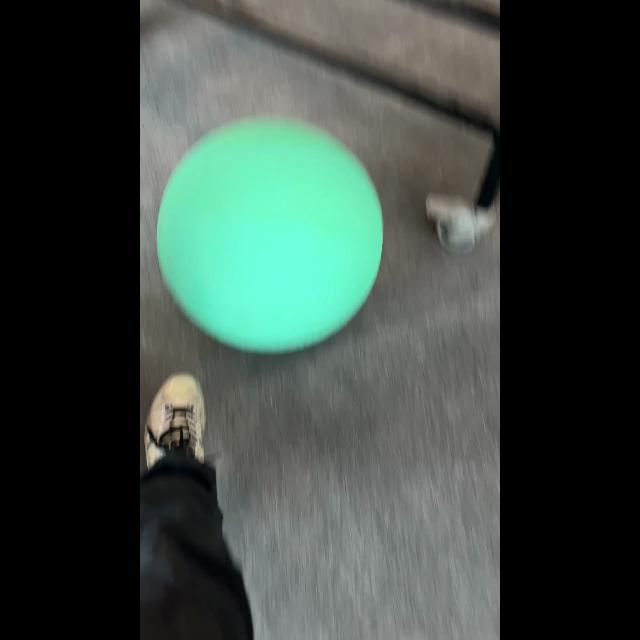ALGAE: (156, 115, 384, 355)
